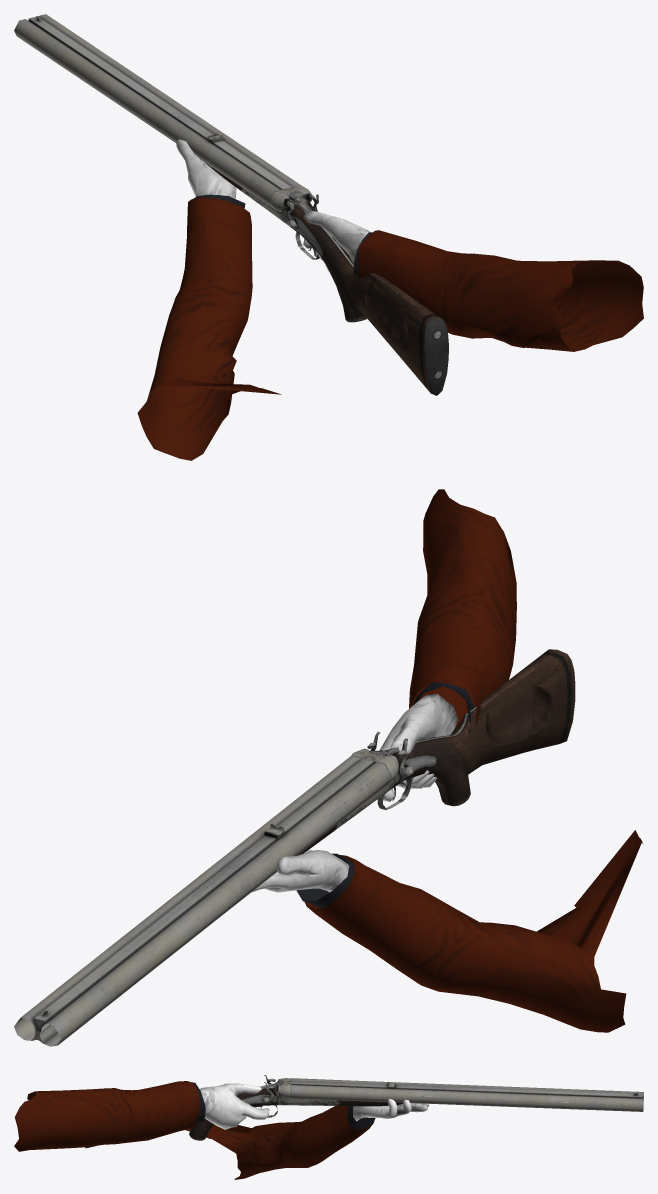
File: frame_30.obj
The picture shows the model from 3 angles, top to bottom: view 1: azimuth 30°, elevation 25°; view 2: azimuth 150°, elevation 25°; view 3: azimuth 270°, elevation 25°; orthographic projection. The views are drawn at different scales.
Visible parts, largest first — view 1: PlayerModelMerged.001_PlayerModelMerged, double_-_barreled_shotgun_L_double_-_barreled_shotgun_LP_к.001; view 2: PlayerModelMerged.001_PlayerModelMerged, double_-_barreled_shotgun_L_double_-_barreled_shotgun_LP_к.001; view 3: PlayerModelMerged.001_PlayerModelMerged, double_-_barreled_shotgun_L_double_-_barreled_shotgun_LP_к.001.
Part boxes in pixels (box(x1,y1,x2,y2)): PlayerModelMerged.001_PlayerModelMerged: box(137, 139, 643, 460); double_-_barreled_shotgun_L_double_-_barreled_shotgun_LP_к.001: box(14, 14, 448, 395); PlayerModelMerged.001_PlayerModelMerged: box(252, 489, 643, 1032); double_-_barreled_shotgun_L_double_-_barreled_shotgun_LP_к.001: box(14, 649, 575, 1046); PlayerModelMerged.001_PlayerModelMerged: box(14, 1081, 429, 1179); double_-_barreled_shotgun_L_double_-_barreled_shotgun_LP_к.001: box(85, 1075, 643, 1148).
Bounding box in the file's own units: 0.8331 × 0.5894 × 2.
